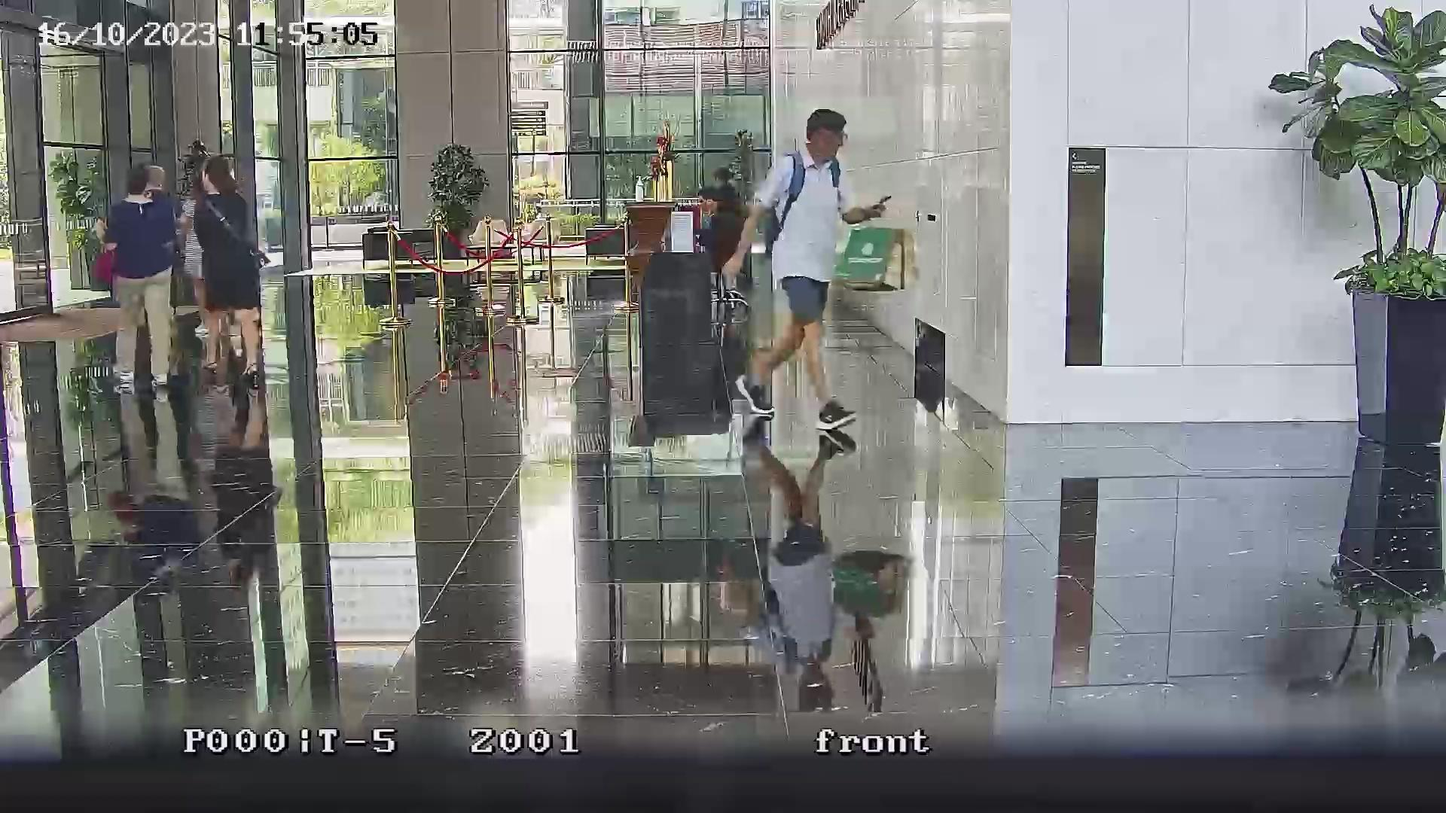person: (721, 108, 892, 428), (103, 163, 184, 400), (191, 154, 270, 396), (697, 186, 746, 279)
